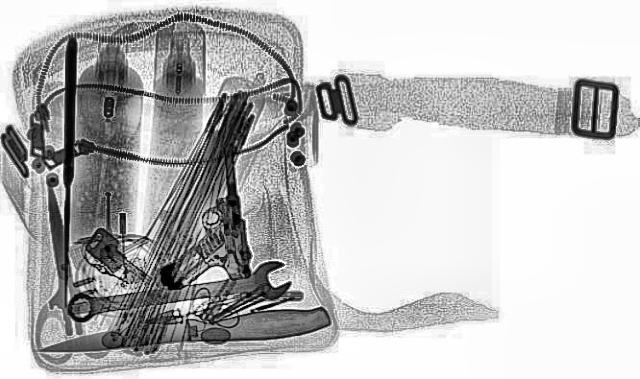Gun: (125, 142, 259, 290)
Knife: (33, 304, 331, 360), (39, 182, 83, 336), (59, 35, 76, 307)
Wrench: (57, 258, 299, 326)
